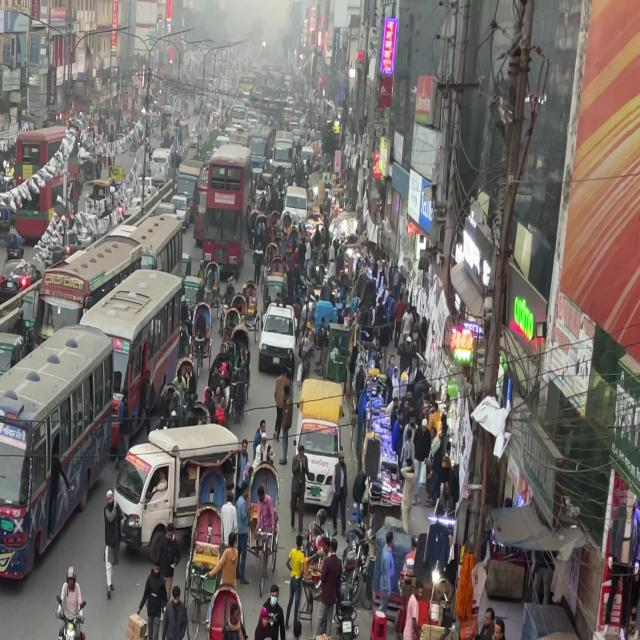bus: (0, 306, 121, 572), (183, 143, 260, 264), (38, 233, 139, 294)
car: (279, 352, 351, 506), (258, 300, 301, 371)
motorbike: (39, 550, 102, 640)
rickshaw: (100, 403, 244, 552)
